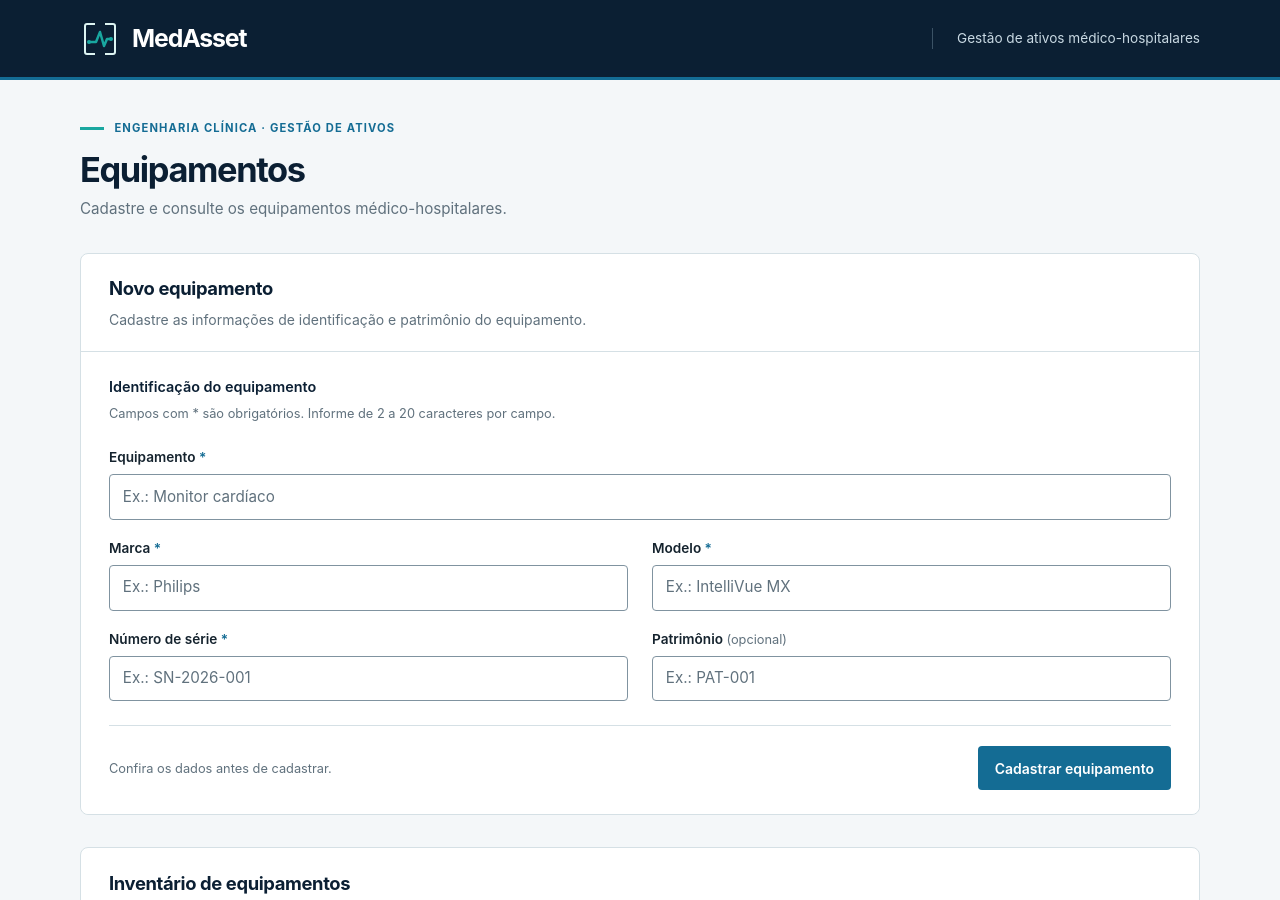
Test: mantém cadastro e listagem na mesma tela e atualiza a lista após cadastrar
The image size is (1280, 900).
expect the heading "Novo equipamento" is shown: met, box [109,278,273,300]
expect the heading "Inventário de equipamentos" is shown: met, box [109,872,350,894]
Type "Monitor" into the field labelled "Equipamento" at (640, 497), box [109,474,1171,520]
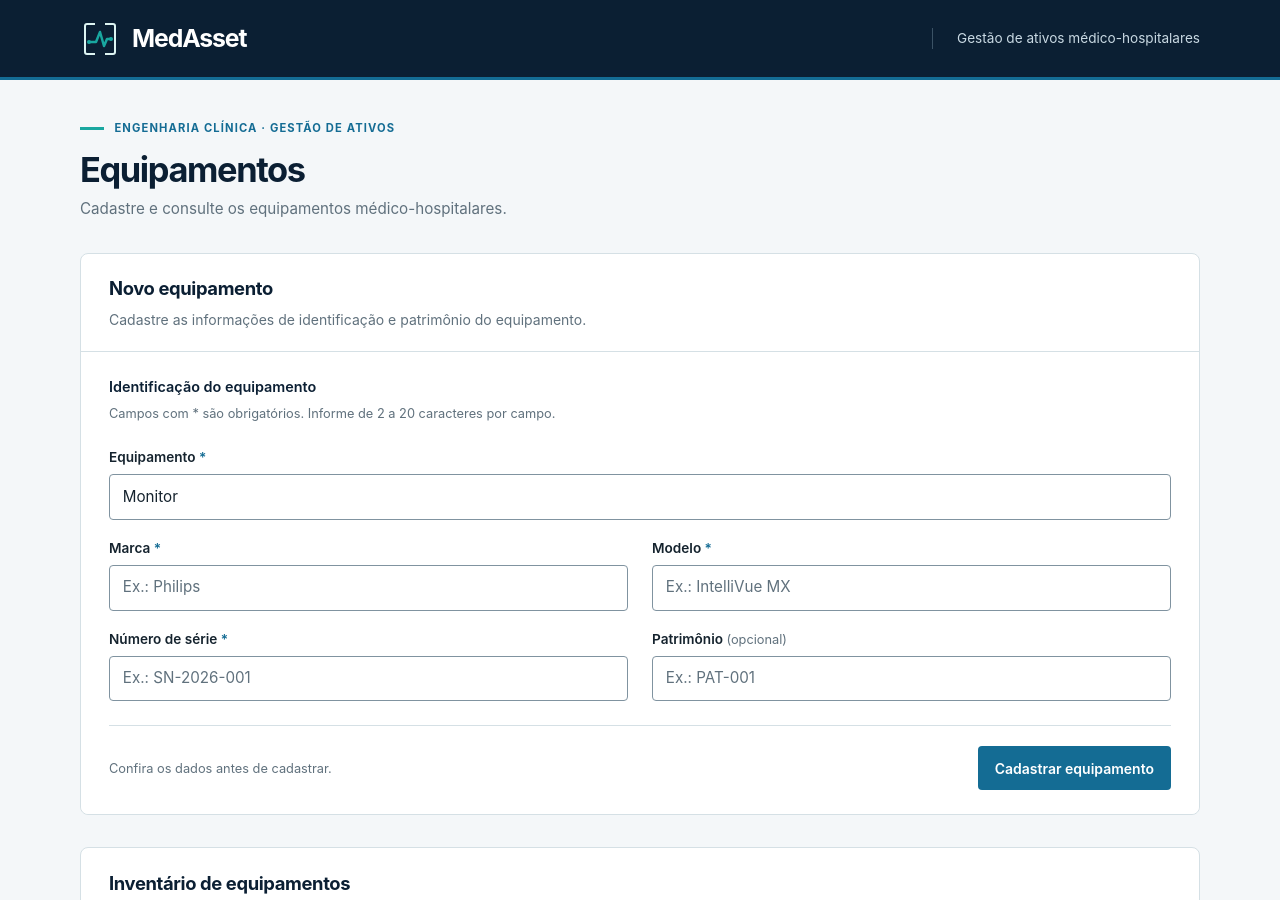
Type "Philips" into the field labelled "Marca" at (368, 588), box [109,565,628,611]
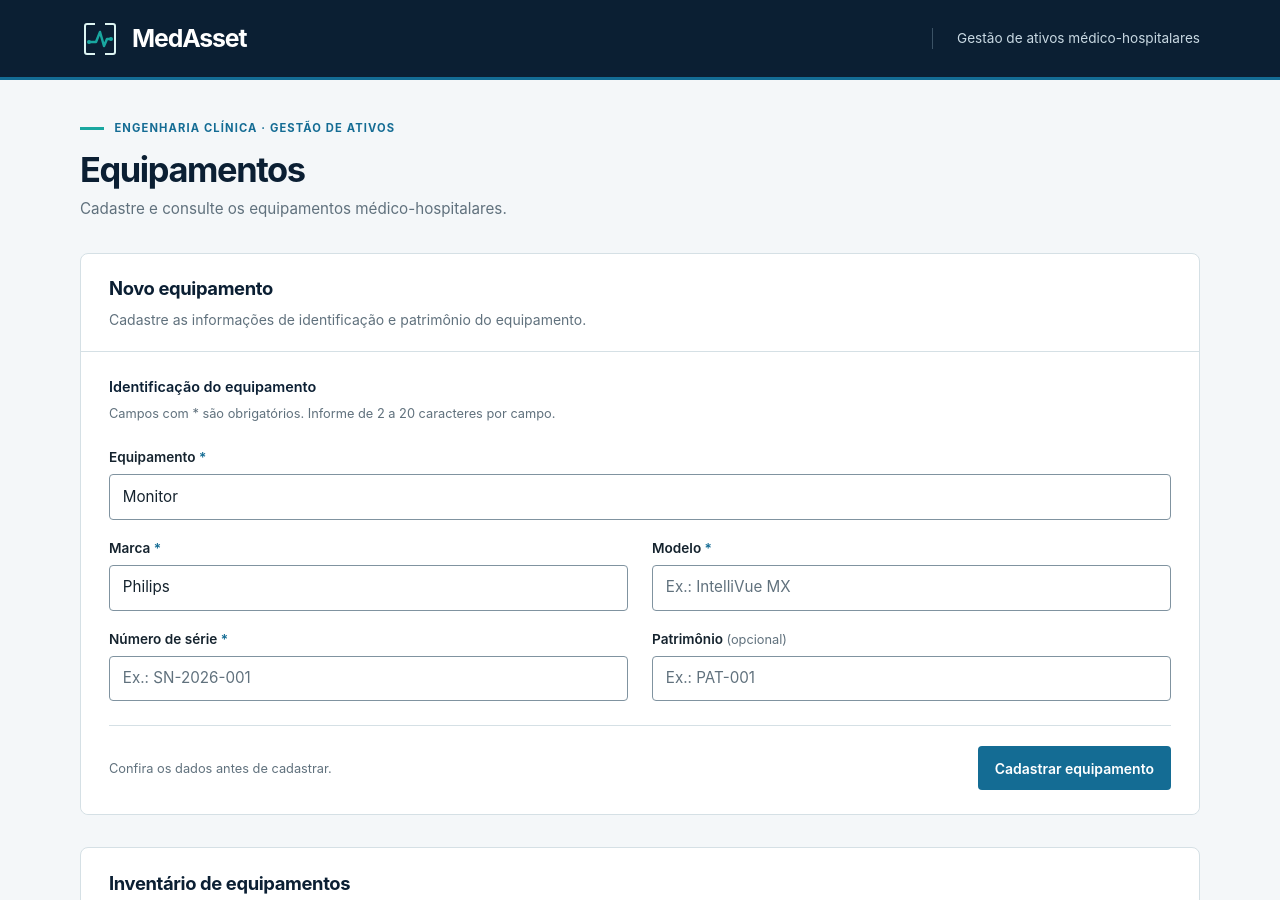
Type "MP20" into the field labelled "Modelo" at (912, 588), box [652,565,1171,611]
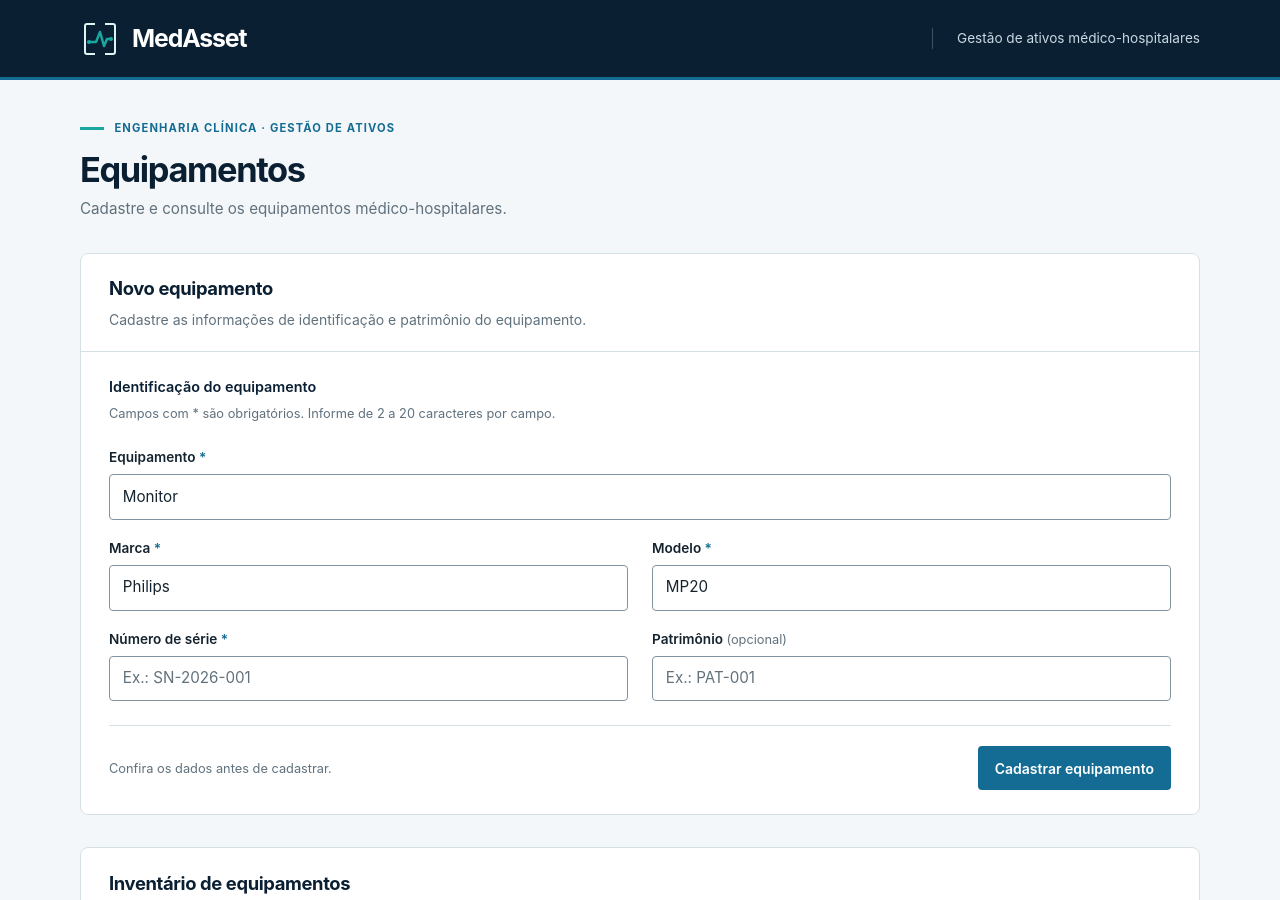
Type "SN001" into the field labelled "Número de série" at (368, 678), box [109,656,628,701]
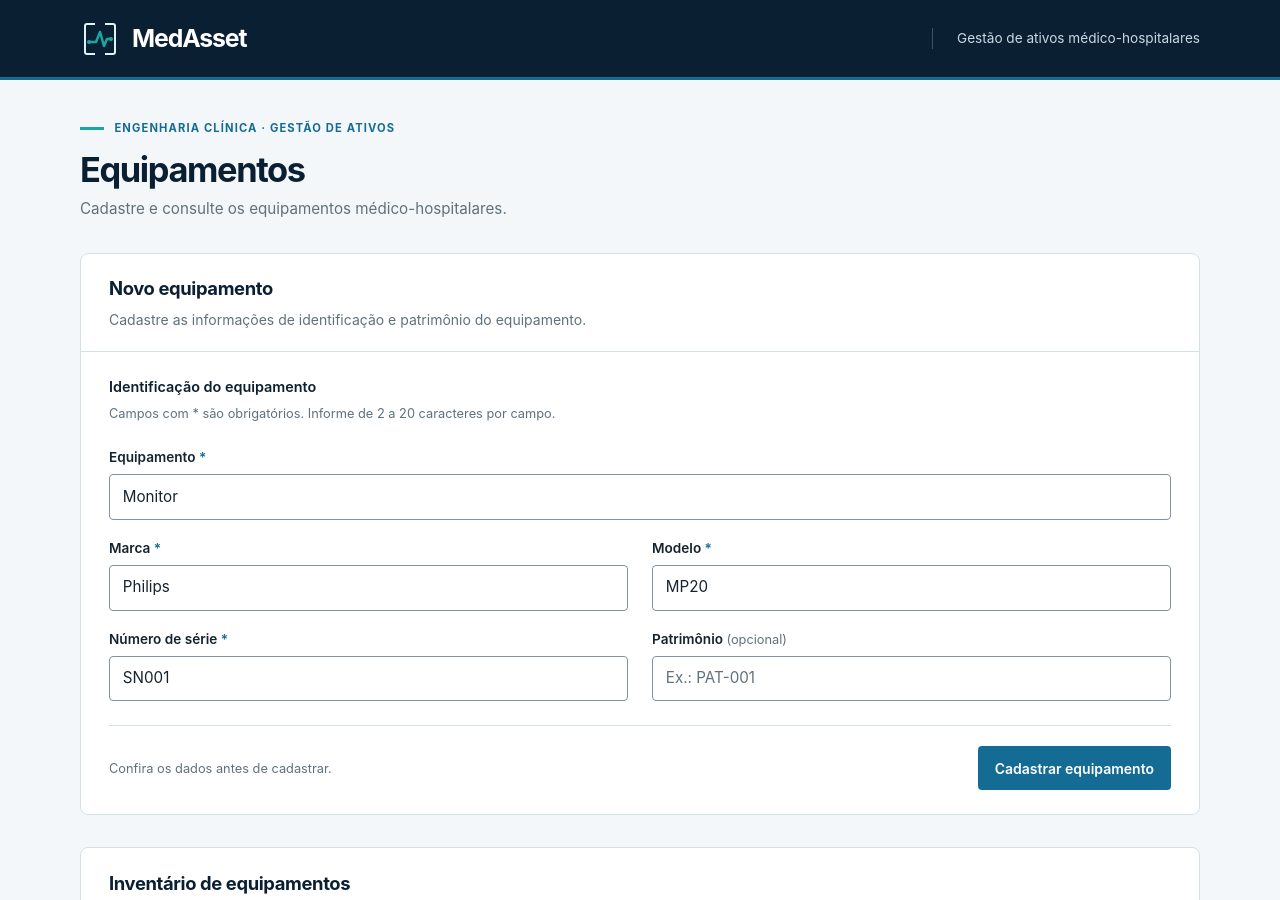
Click the button "Cadastrar equipamento" at (1074, 768), box [978,746,1171,790]
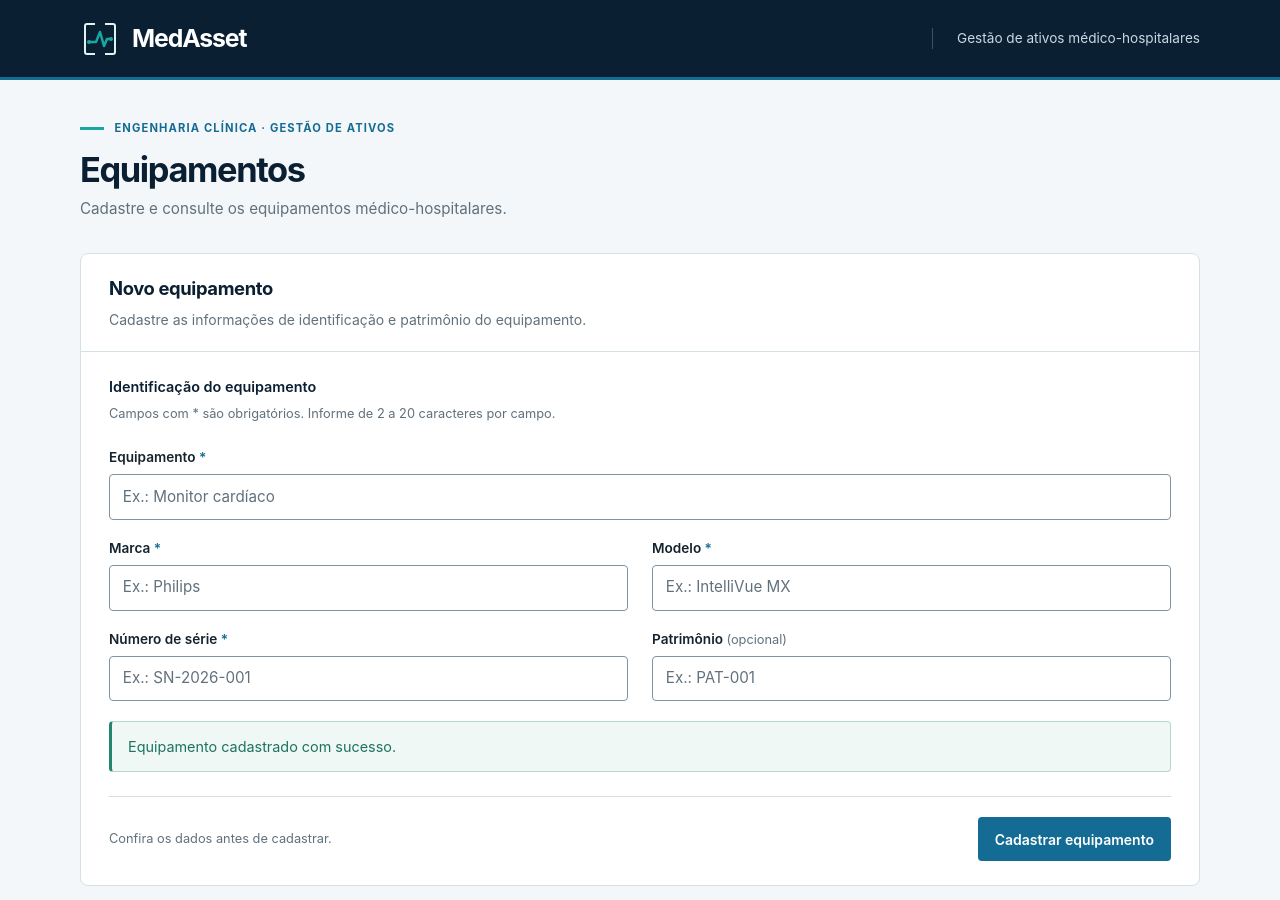
expect the text "Equipamento cadastrado com sucesso." is shown: met, box [109,721,1171,772]
expect the field labelled "Equipamento" is empty: met, box [109,474,1171,520]
